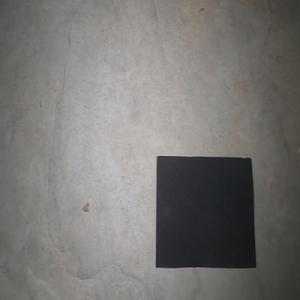PaintChip: (155, 155, 256, 268)
